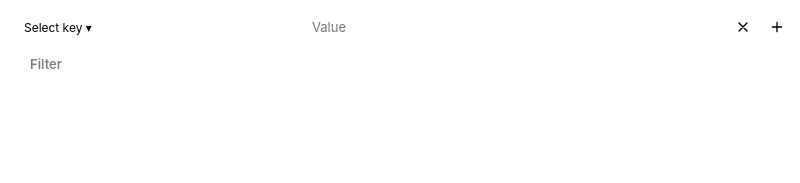
HeaderFilterPanel › starts with one key/value row, and Filter disabled until it is complete
Expected: the number of fields named "Header value" is 1, [300,12,720,42]
Expected: the button "Filter" is disabled, [12,50,80,78]
Click the button "Select key ▾". click: (53,27)
box: [12,12,292,42]
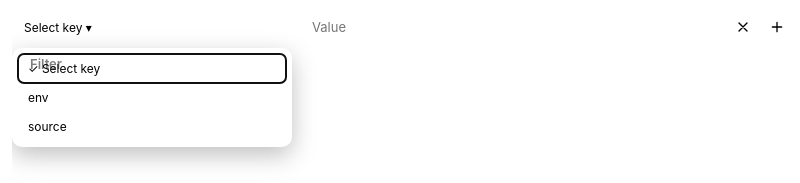
Click the option "source". click: (47,126)
box: [28,118,67,134]
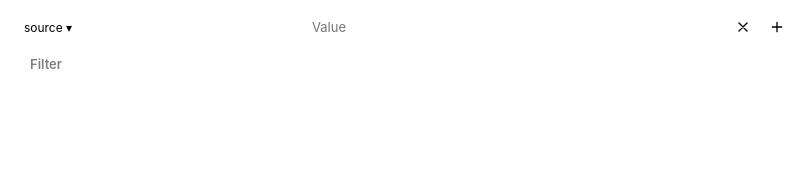
Expected: the button "Filter" is disabled, [12,50,80,78]
Type "billing" into the field named "Header value 1". click: (510,27)
box: [300,12,720,42]
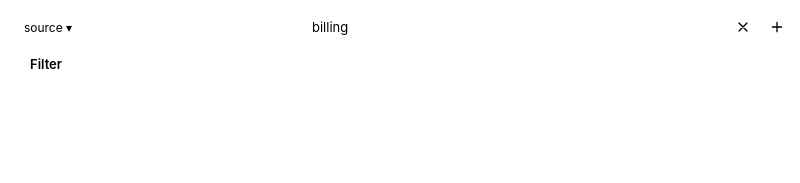
Expected: the button "Filter" is enabled, [12,50,80,78]
